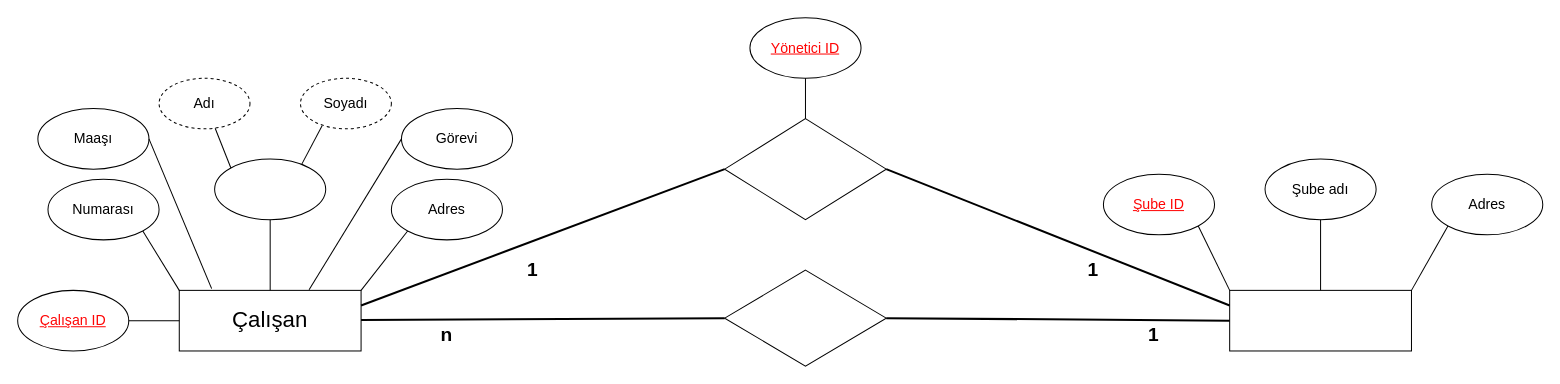
Image size: 1560x384. Some labels were removed from this diagram. The shapes that lost their labels are listed below. From the top down, each one's centre as x and y in pixels, then its label:
At pixel 270 189: "Tam adı".
At pixel 805 169: "Yönetir".
At pixel 805 317: "Çalışır".
At pixel 1320 320: "Şube".
